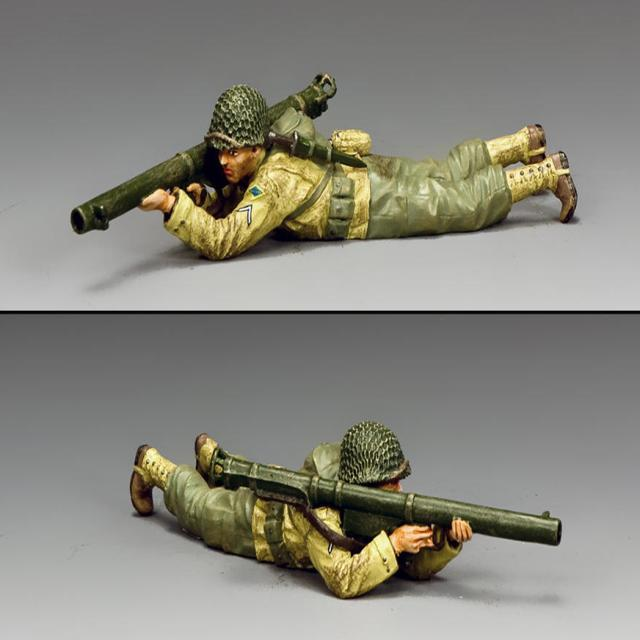Weapon: (210, 447, 561, 545), (70, 141, 225, 233)
